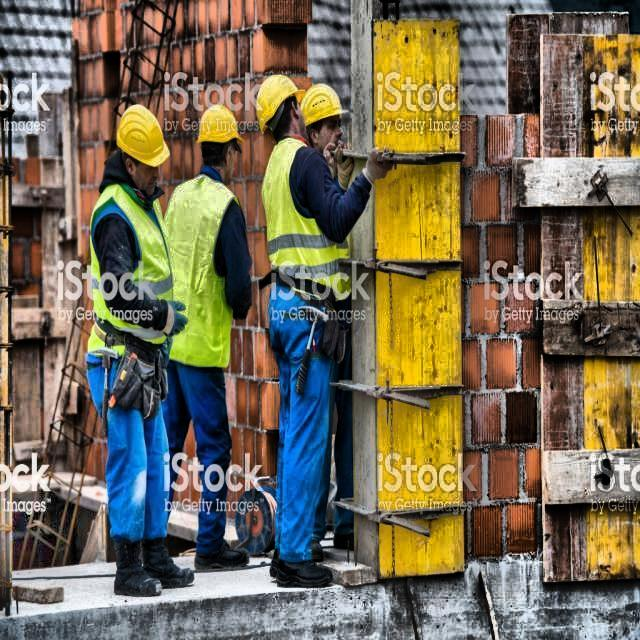safety_helmet: (117, 105, 172, 169), (258, 73, 300, 130), (198, 108, 245, 157), (303, 83, 349, 129)
safety_jacket: (87, 186, 175, 359), (165, 176, 243, 369), (261, 140, 346, 315)
